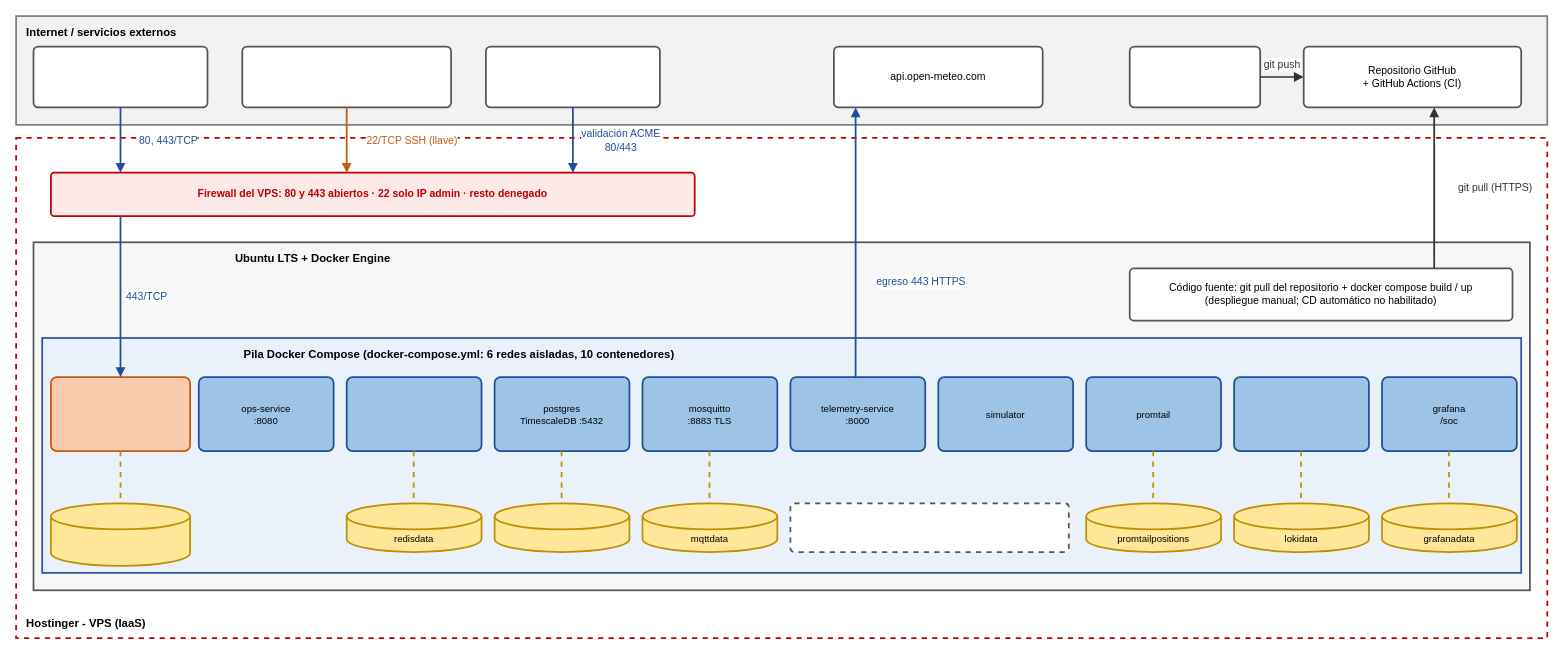
The diagram is 1563 pixels wide and 653 high, and some of its shapes have lost their labels. Here are the shapes that lost their labels. From the top down, the centre of each, then its label:
At (120,76): "Usuarios (navegador)".
At (346,76): "Administrador (IP permitida)".
At (572,76): "Let's Encrypt (ACME)".
At (1194,76): "Desarrollador git push".
At (120,414): "caddy 80/443, SPA, gateway basic-auth opcional (demo)".
At (413,414): "redis :6379".
At (1301,414): "loki".
At (120,534): "caddydata caddyconfig (certificados TLS)".
At (561,527): "pgdata".
At (929,527): "Secretos Docker (/run/secrets) generados por bootstrap.sh, fuera de Git".
